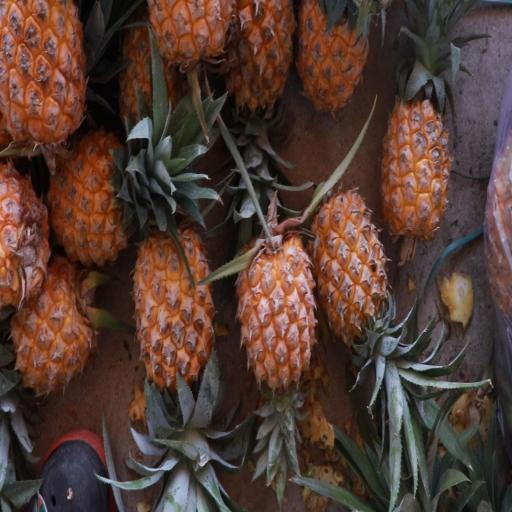Pineapple - v8 v1: (131, 222, 218, 433), (44, 123, 168, 270), (306, 184, 392, 377), (234, 217, 322, 401), (4, 246, 104, 403), (377, 58, 455, 248), (0, 1, 93, 157), (220, 0, 301, 125), (295, 0, 373, 126), (144, 0, 241, 81)
